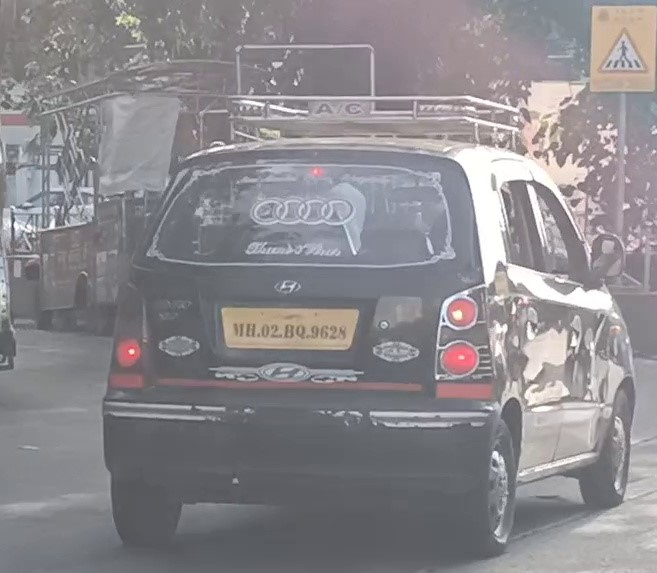MH02BQ9628: (220, 308, 358, 351)
